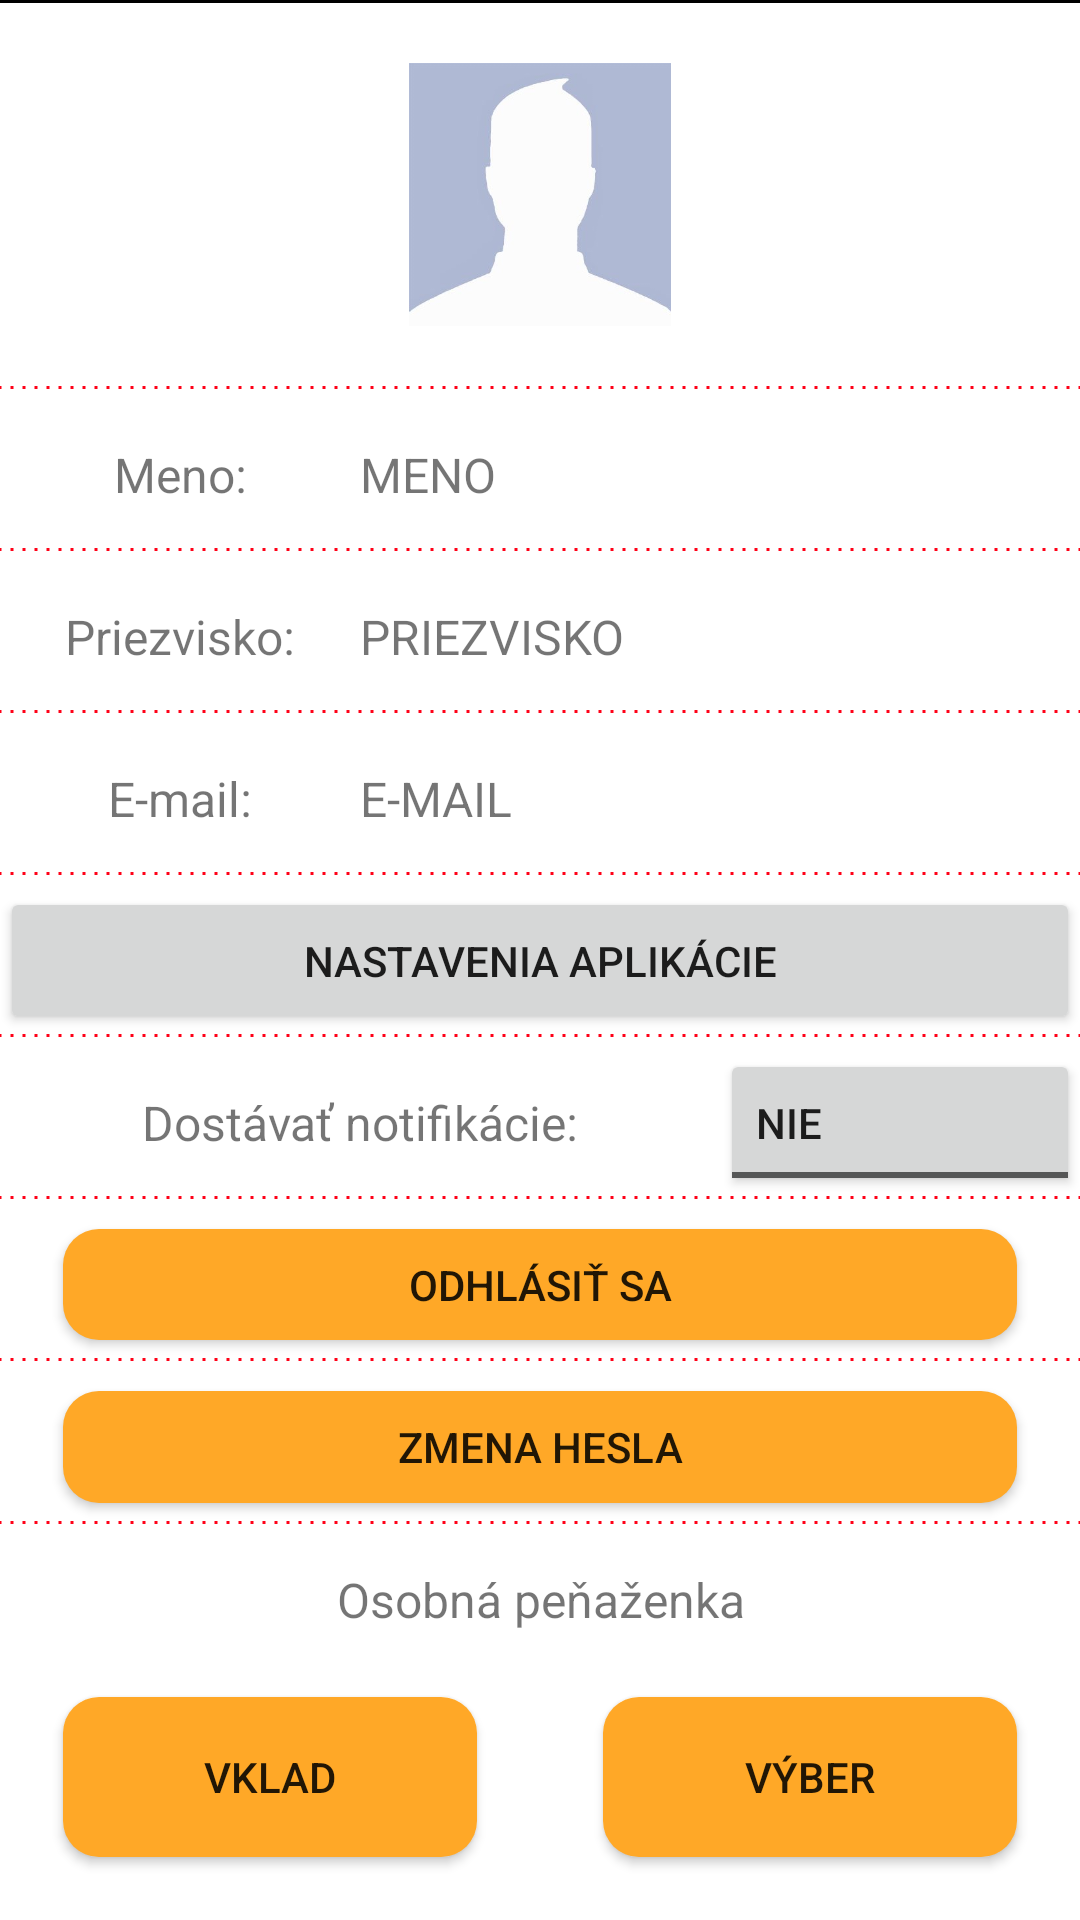

Icons on this 1080 × 1920 Android screen, each with the point to tap as (x,y):
profile pic: (540,187)
